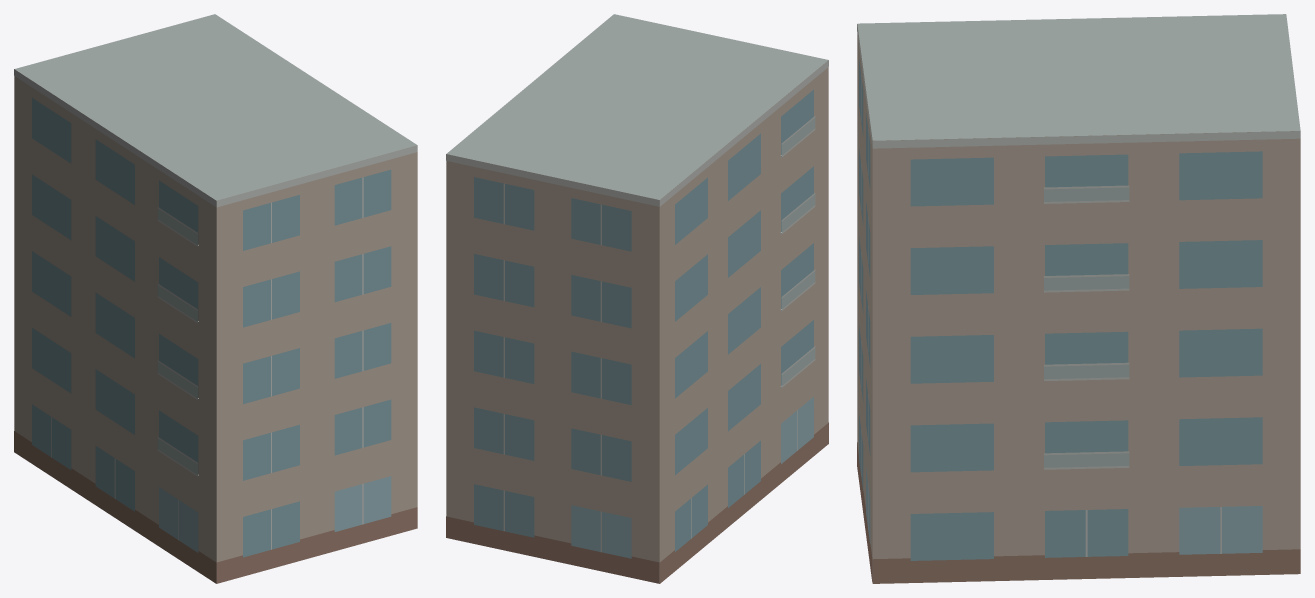
The model's file is survey-upis-32953798.glb.
3 renders of one model, left to right at view 1: azimuth 30°, elevation 25°; view 2: azimuth 150°, elevation 25°; view 3: azimuth 270°, elevation 25°, orthographic. The views are drawn at different scales.
Parts seen in each view (by area): view 1: survey-upis-32953798.tmp; view 2: survey-upis-32953798.tmp; view 3: survey-upis-32953798.tmp.
Part boxes in pixels (x1,y1,x2,y2): survey-upis-32953798.tmp: (14,14,417,583); survey-upis-32953798.tmp: (446,14,828,583); survey-upis-32953798.tmp: (857,14,1300,583).
Bounding box in the file's own units: 8.48 × 13.8 × 12.53.
